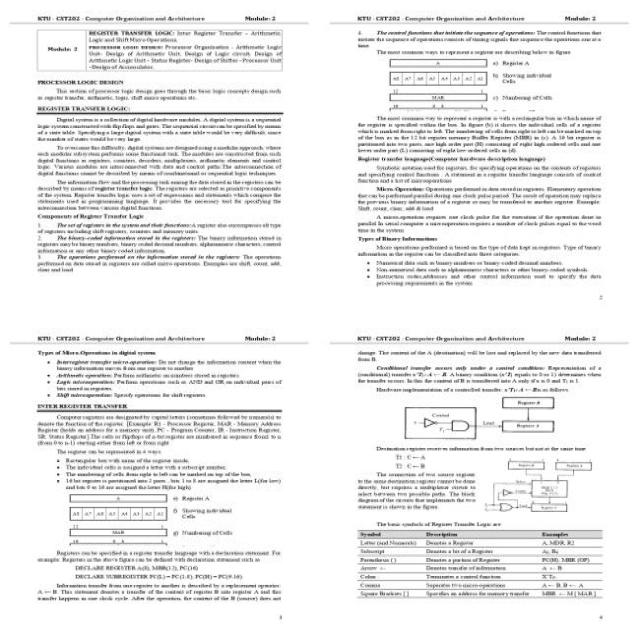Figure Detection - v3 Dataset Version2: (401, 394, 565, 441), (480, 454, 601, 516)
